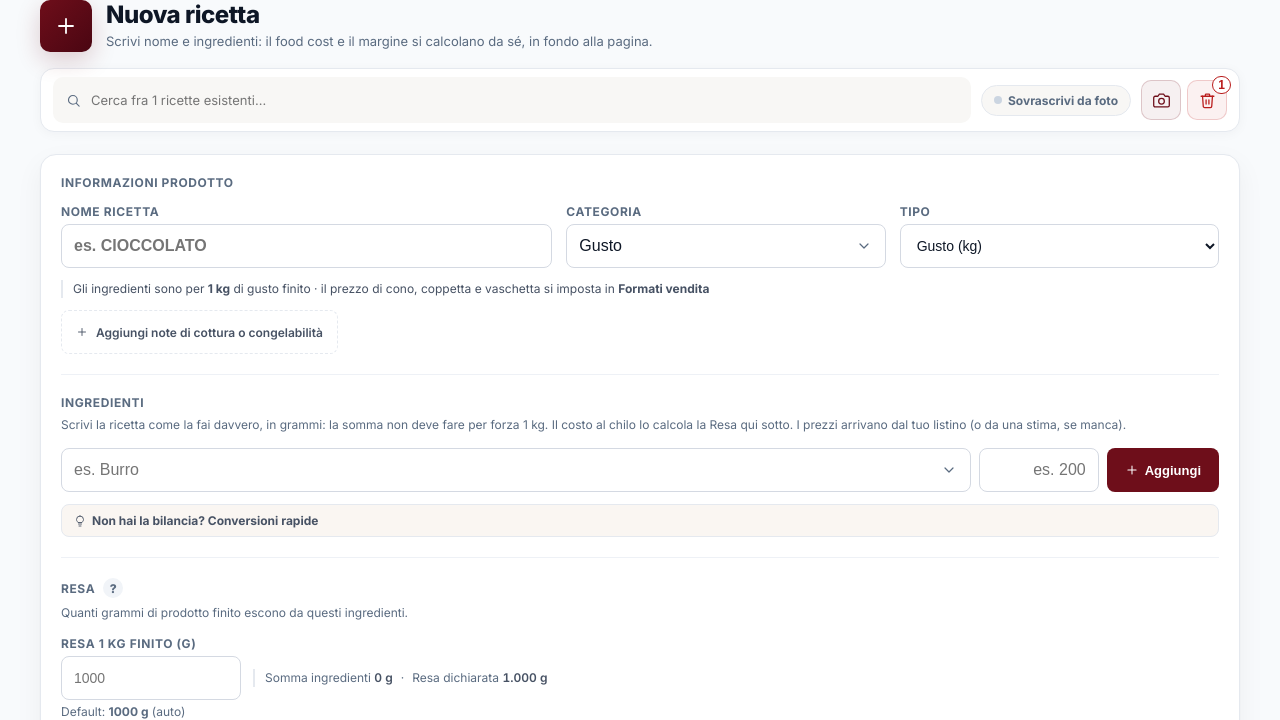
Test: Anche in «Nuovo gusto» il punto sono le migliaia, e si dichiara › scrivendo 1.250 la finestra dice come ha letto
Type "Farcitura segreta zz" into the dropdown named "Nome ingrediente da aggiungere" at (516, 470), box [61, 448, 971, 492]
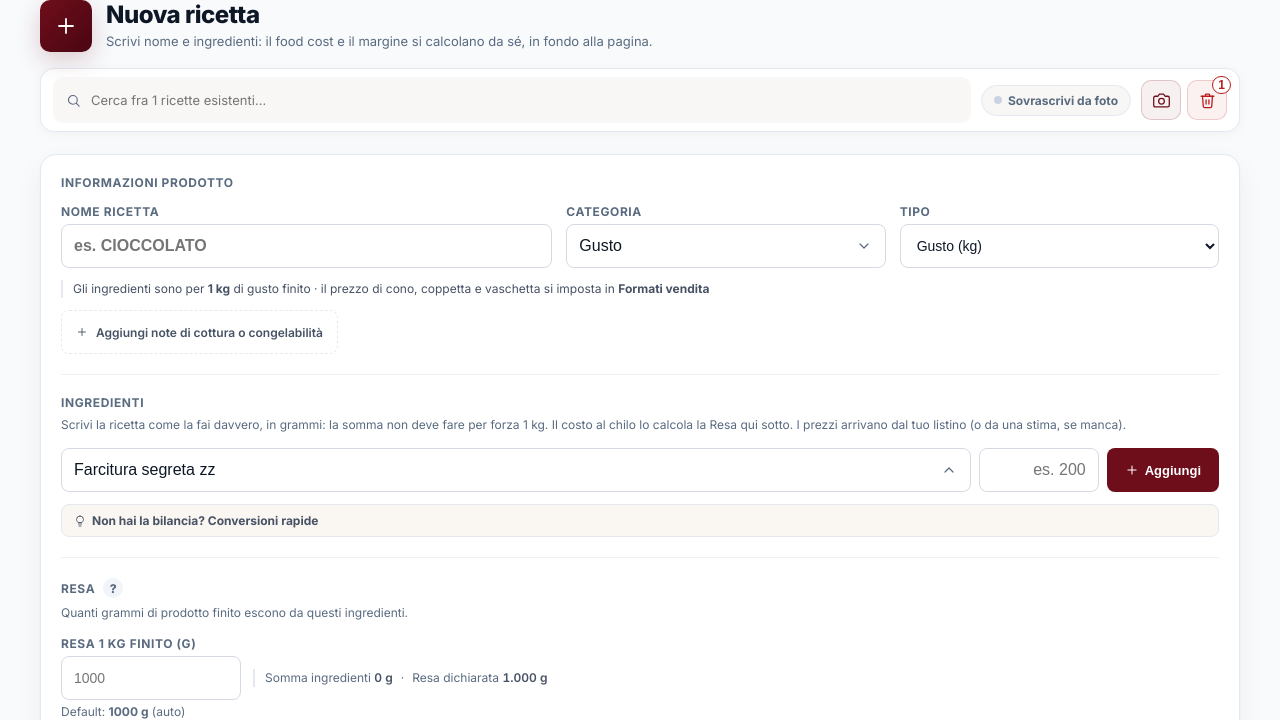
Type "100" into the field named "Grammi di ingrediente da aggiungere" at (1039, 470), box [979, 448, 1099, 492]
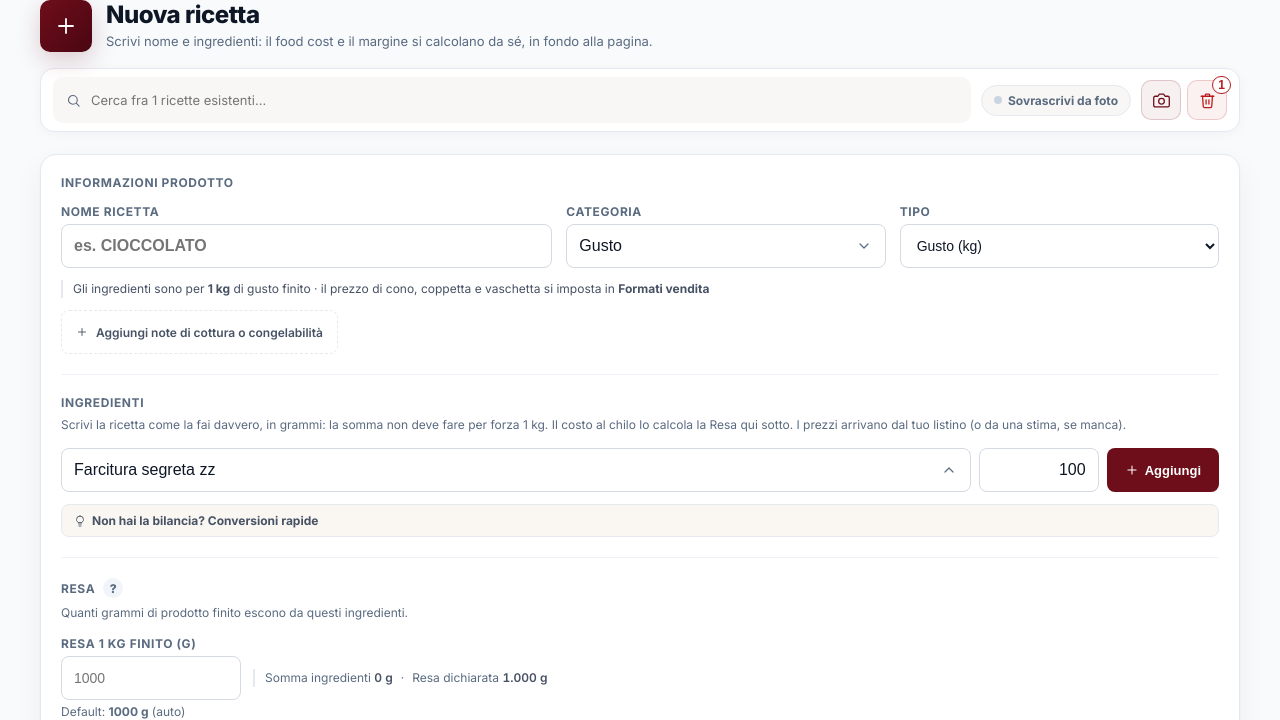
Click the button with aria-label "Aggiungi ingrediente alla ricetta" at (1163, 470), box [1107, 448, 1219, 492]
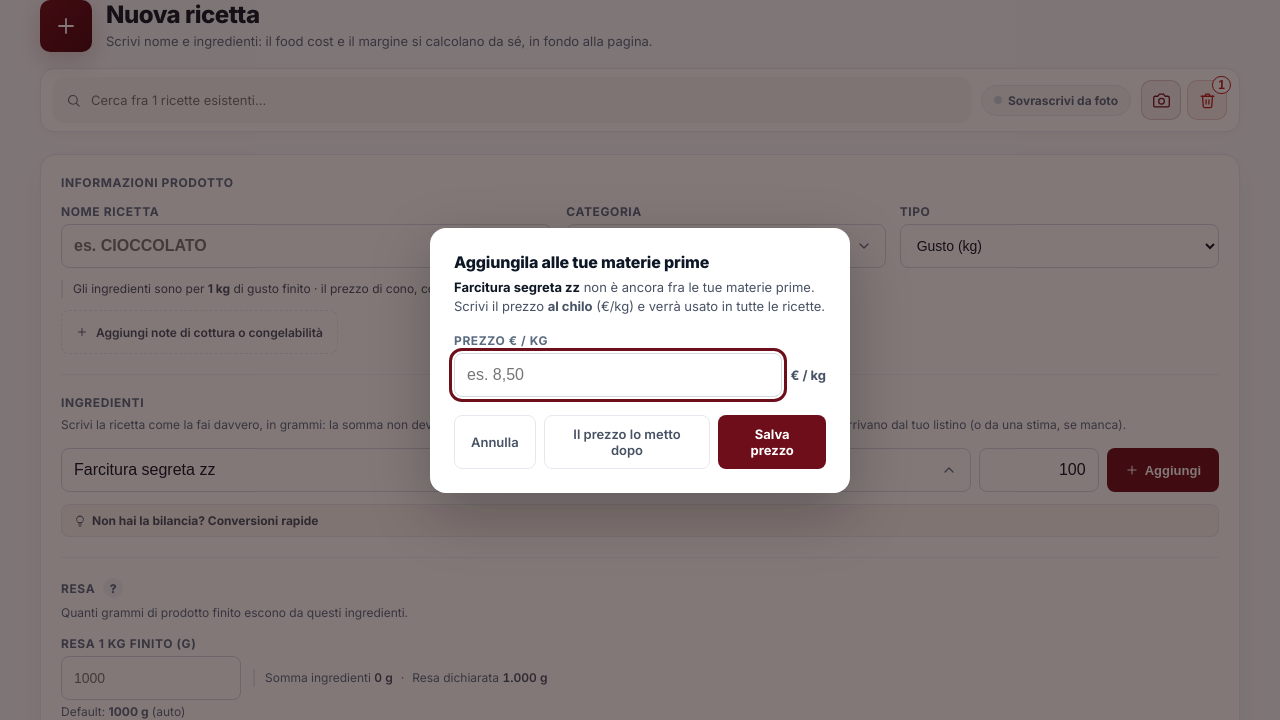
Type "1.250" into the field named "Prezzo al chilo in euro" at (618, 374), box [454, 352, 782, 396]
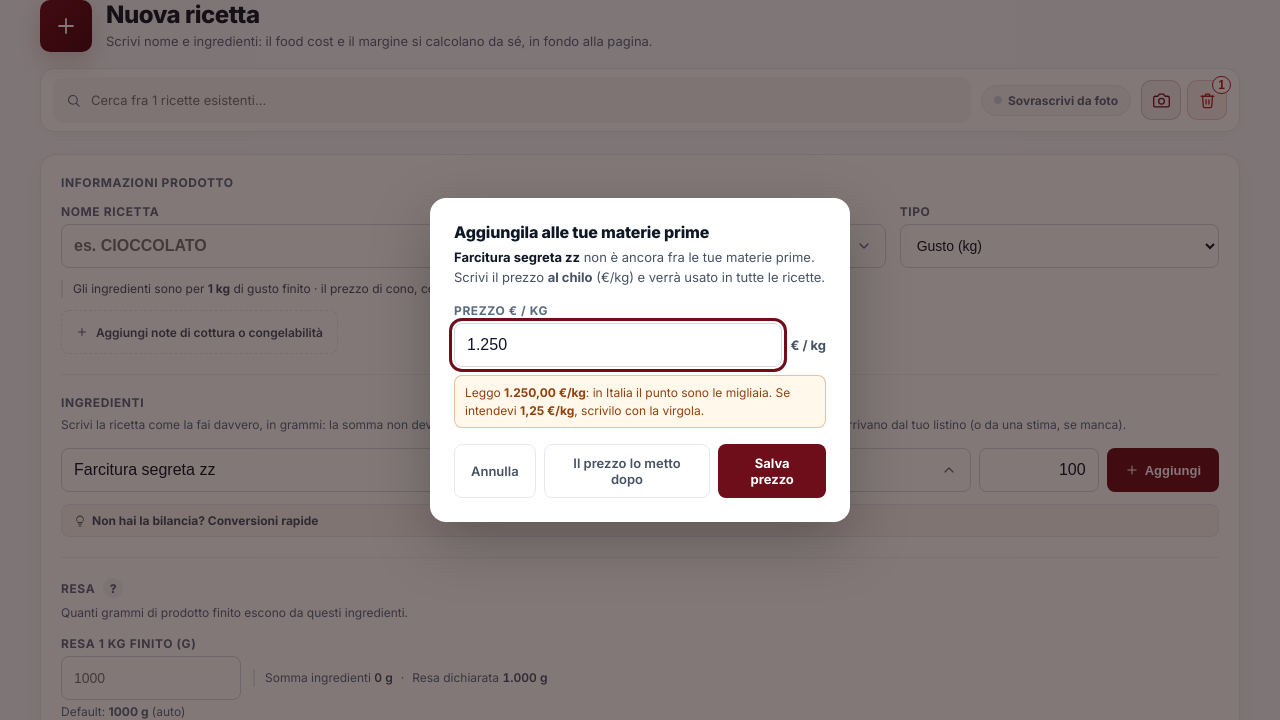
Now the text "il punto sono le migliaia" is shown, box [465, 385, 790, 418]
